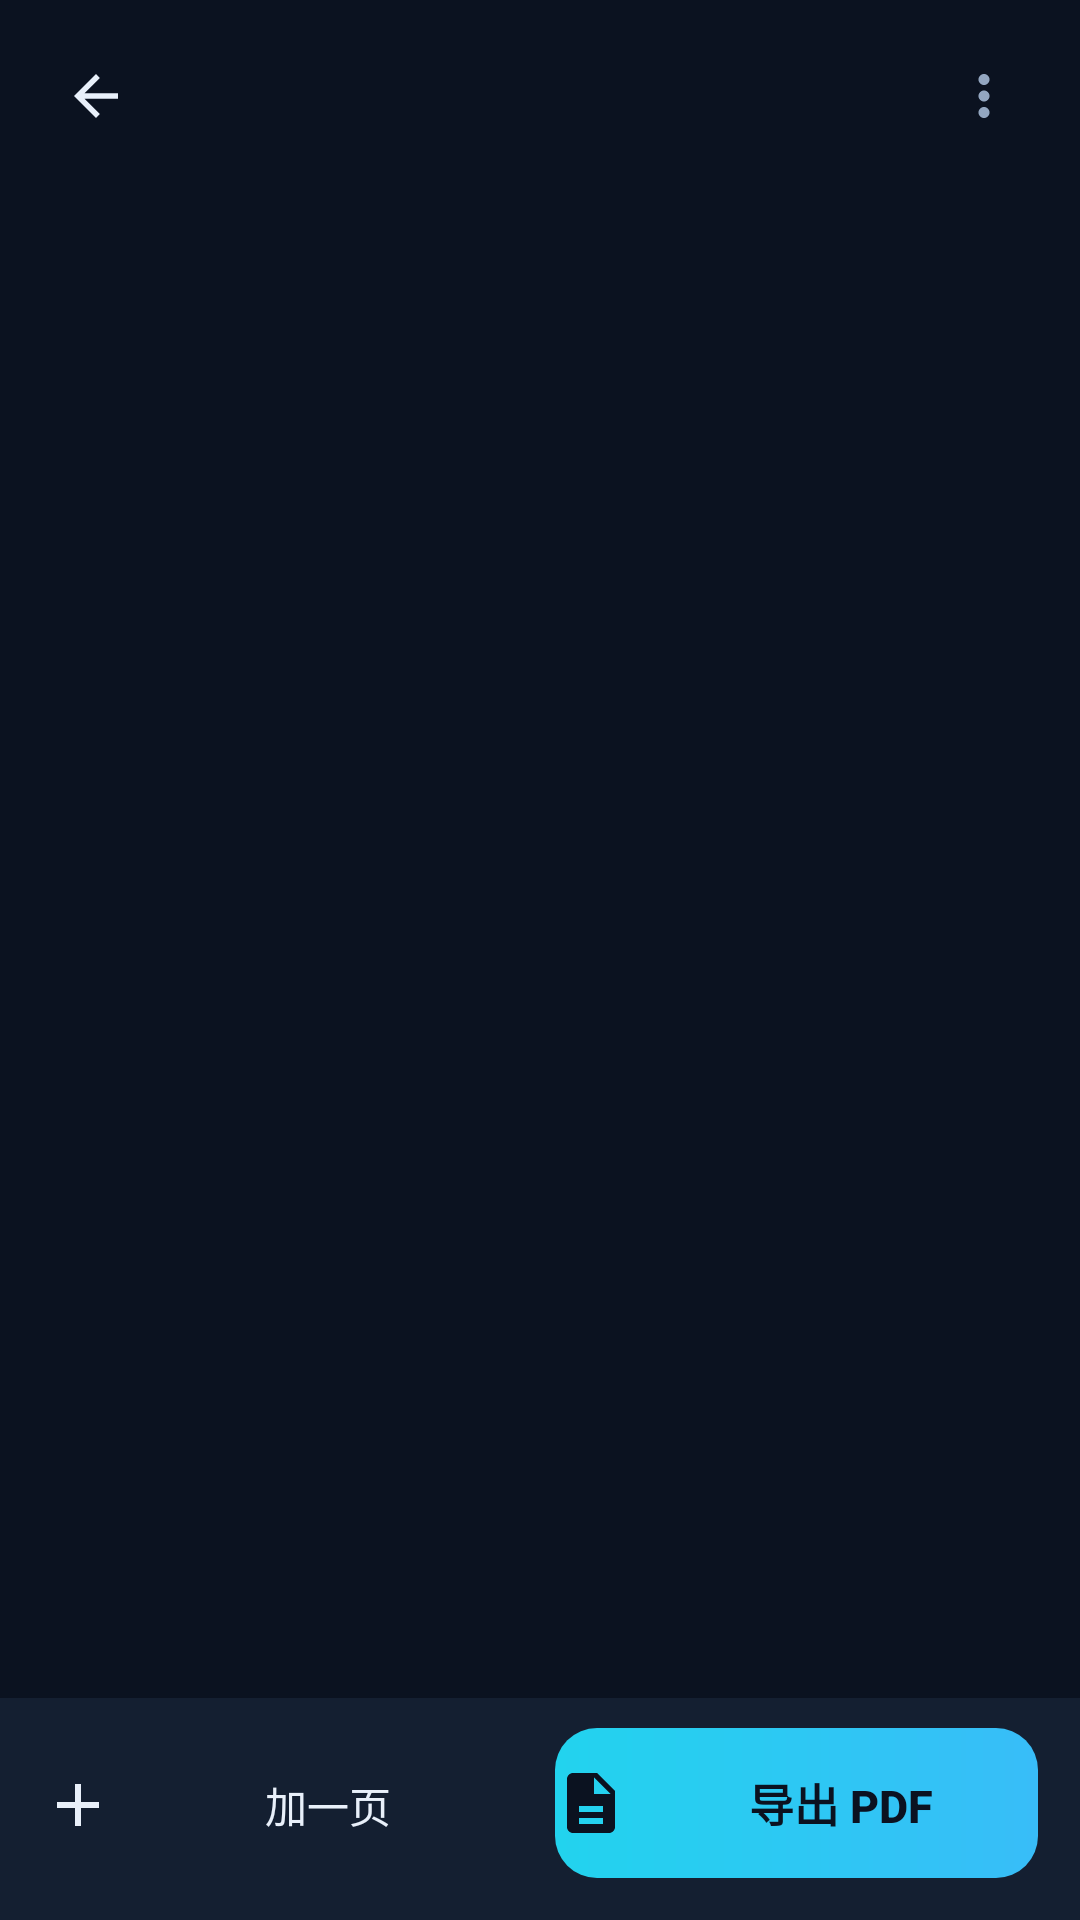

Where to tap for icons on this 1080 × 1920 app screen, as [x,y]:
更多: [984,96]
返回: [96,96]
